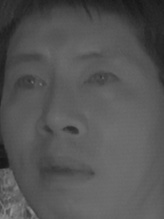eye: (12, 69, 48, 96), (84, 68, 121, 90)
mouth: (35, 149, 98, 187)
